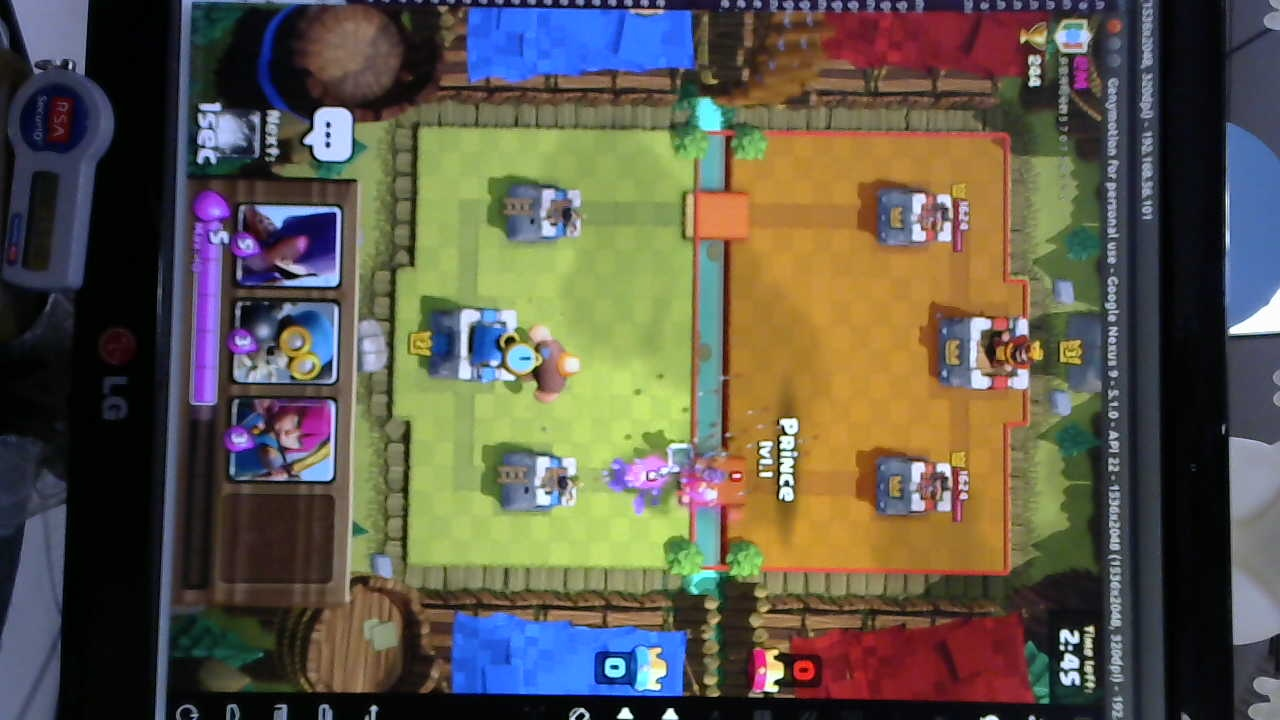giant: (505, 325, 574, 402)
